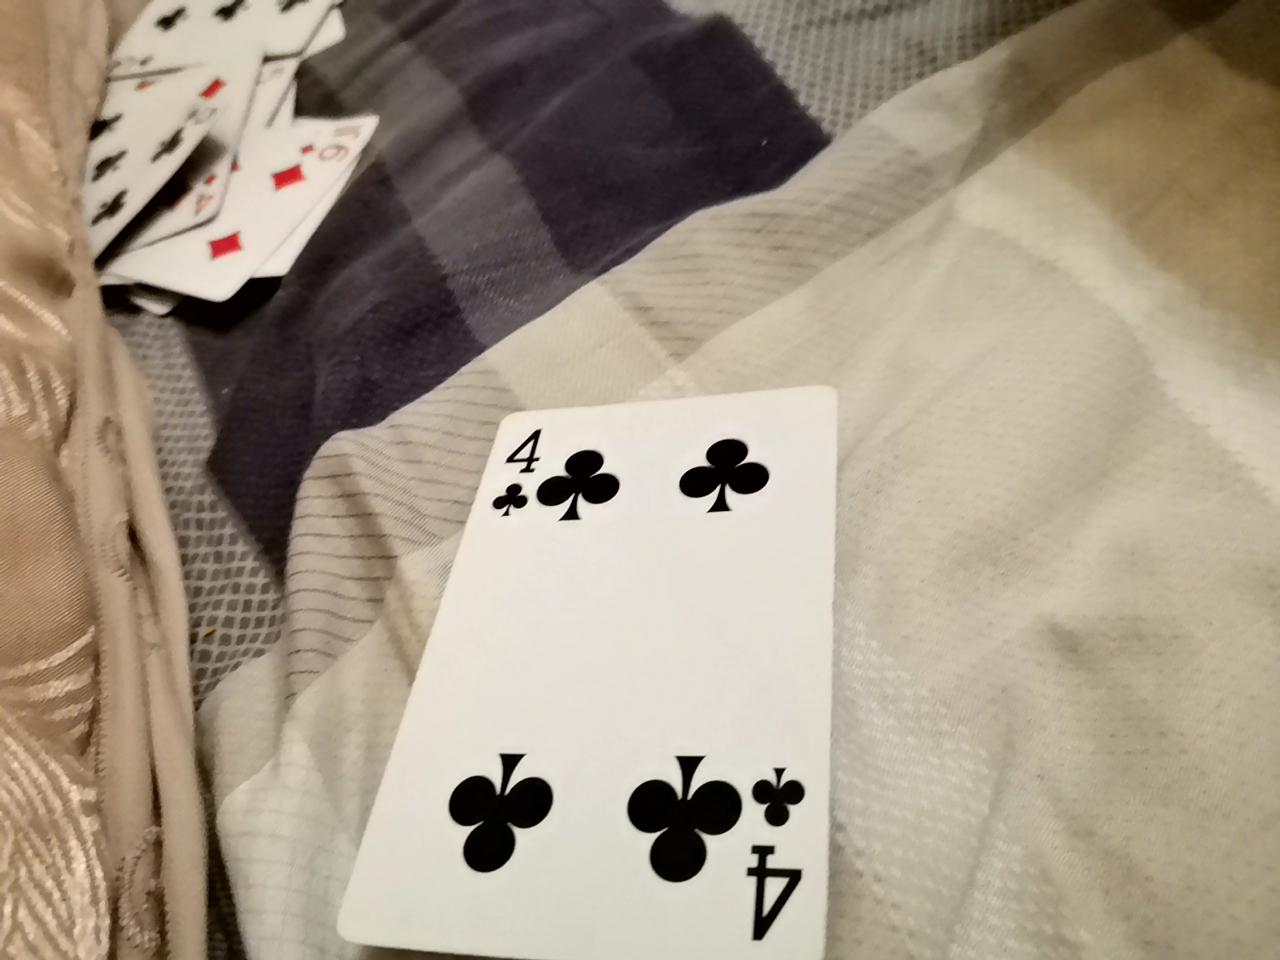mh 4: (338, 387, 825, 943)
